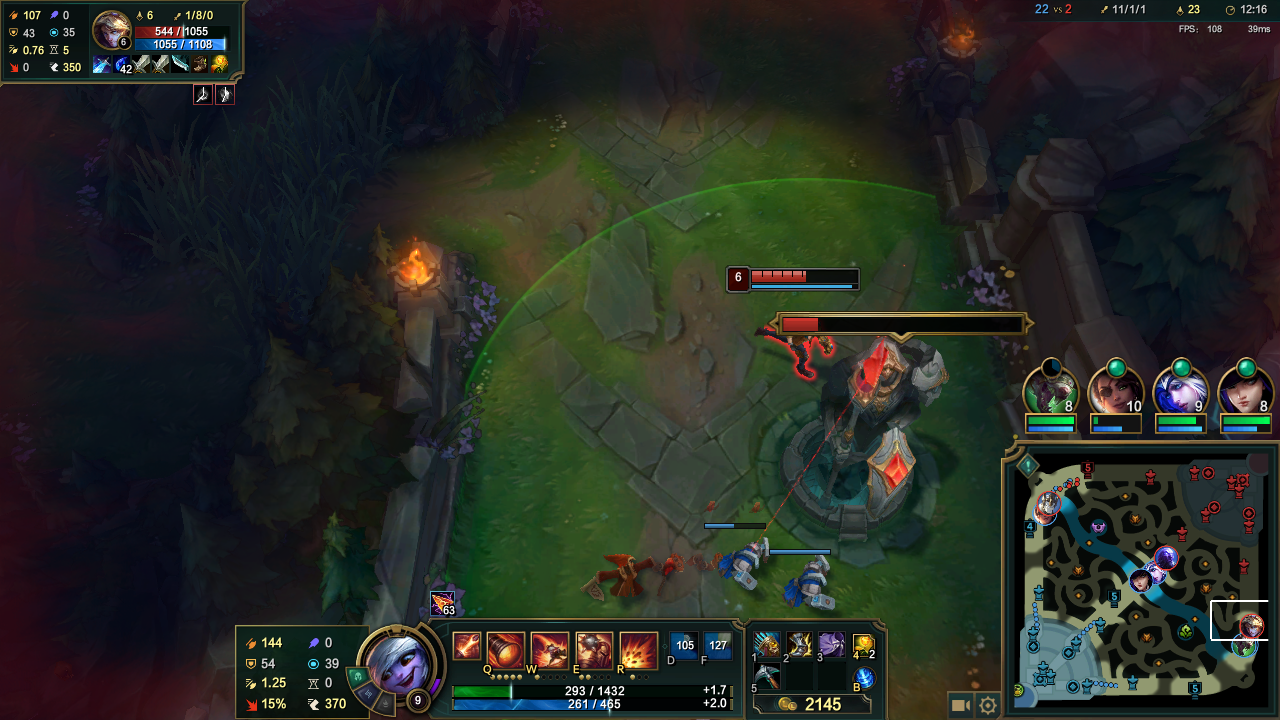DFFYT: (776, 308, 956, 534)
DFYX: (747, 266, 808, 287)
WFXB: (779, 556, 847, 614), (710, 531, 771, 587)
Yita: (1184, 676, 1208, 701)
